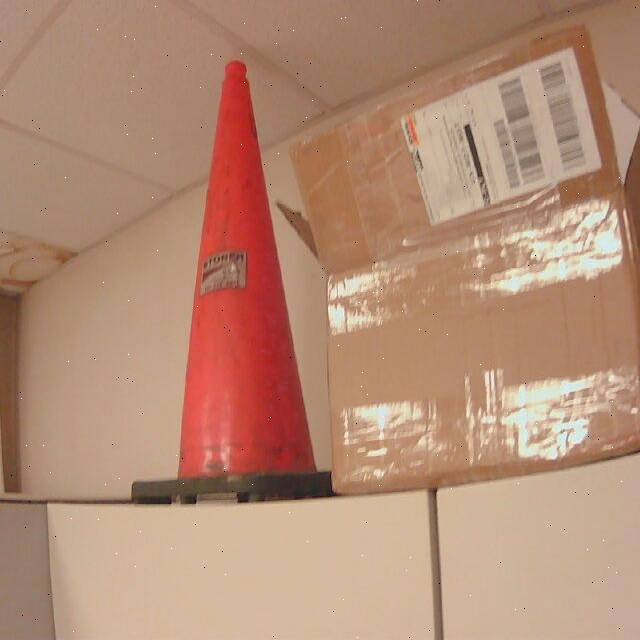traffic cone: (131, 62, 333, 508)
